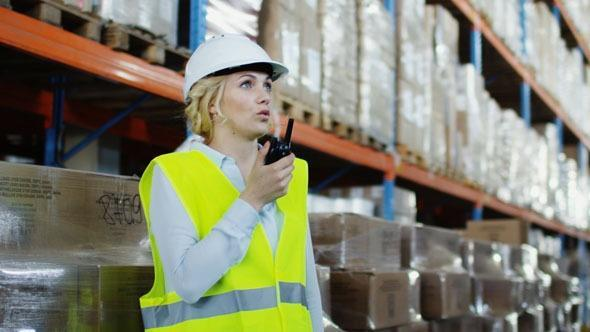helmet: (179, 31, 289, 99)
person: (133, 28, 337, 332)
vest: (138, 139, 319, 332)
